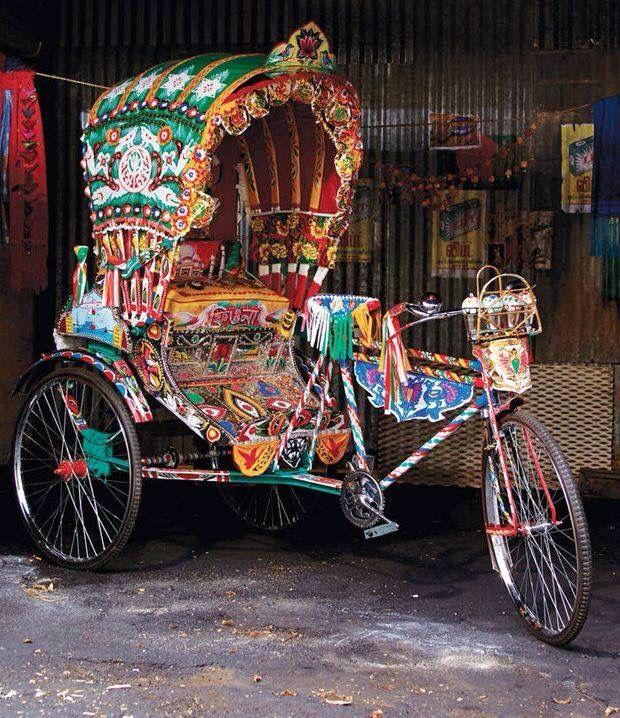Rickshaw: (4, 9, 611, 661)
